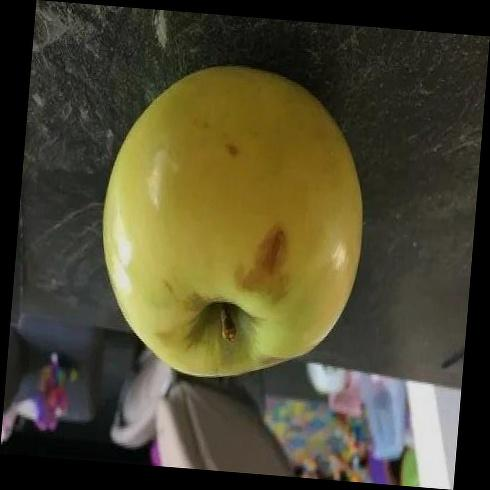green apple: (102, 65, 364, 381)
